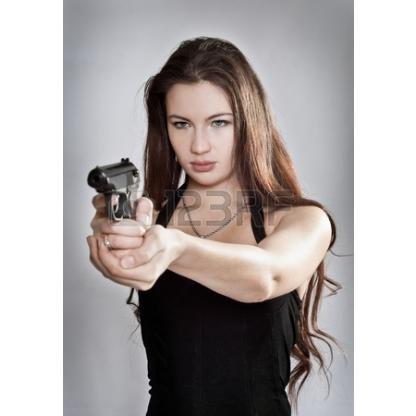gun: (81, 157, 141, 271)
